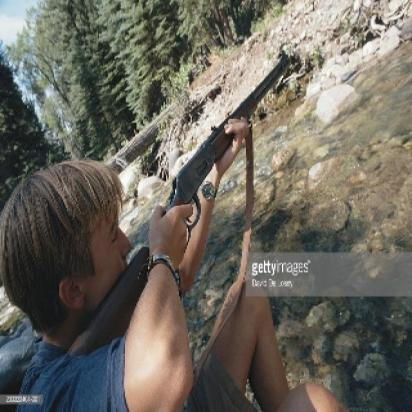Gun: (59, 50, 291, 362)
